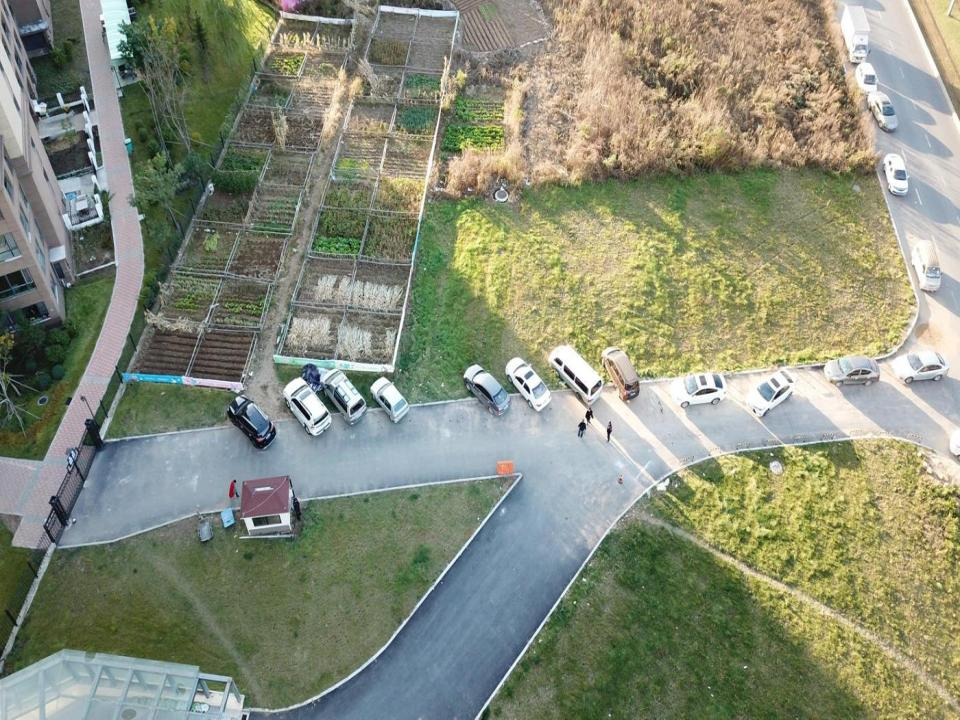car: (283, 377, 331, 437), (229, 394, 276, 450), (505, 356, 552, 410), (463, 364, 510, 417), (747, 368, 795, 418), (601, 345, 640, 401), (672, 369, 726, 409), (891, 350, 950, 386), (822, 356, 881, 388), (371, 378, 409, 424), (867, 92, 898, 132), (884, 154, 909, 196), (854, 62, 878, 102)
truck: (840, 3, 869, 66)
van: (550, 344, 602, 406), (319, 370, 367, 424), (912, 241, 940, 294)
